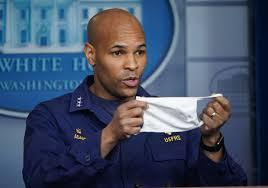Wore Mask Incorrectly: (80, 20, 228, 140)
